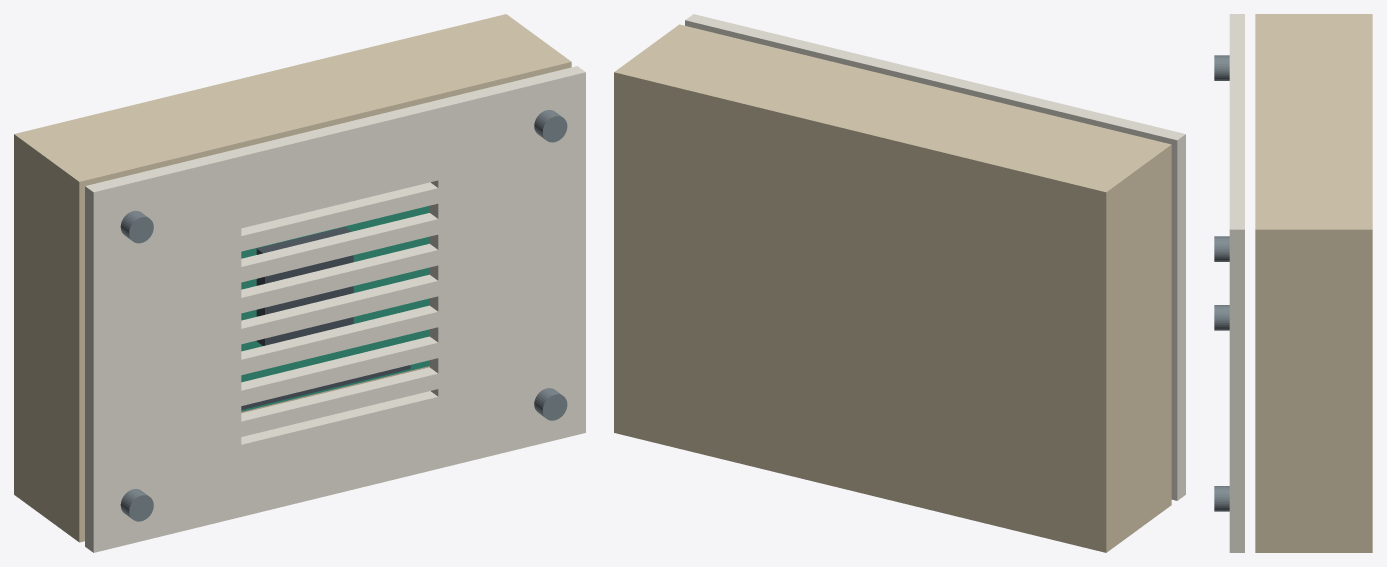
File: synthetic-enclosure.glb
3 renders of one model, left to right at view 1: azimuth 30°, elevation 25°; view 2: azimuth 150°, elevation 25°; view 3: azimuth 270°, elevation 25°, orthographic. The views are drawn at different scales.
Parts seen in each view (by area): view 1: Vented cover, Base enclosure, Controller board, Processor and headers, Cover fasteners; view 2: Base enclosure, Vented cover; view 3: Base enclosure, Vented cover, Cover fasteners.
Boxes of the visible parts, x1=… form: Vented cover: x1=85, y1=66, x2=585, y2=552; Base enclosure: x1=14, y1=14, x2=571, y2=542; Controller board: x1=241, y1=205, x2=429, y2=411; Processor and headers: x1=241, y1=227, x2=410, y2=409; Cover fasteners: x1=120, y1=110, x2=567, y2=521; Base enclosure: x1=614, y1=24, x2=1171, y2=552; Vented cover: x1=685, y1=14, x2=1185, y2=500; Base enclosure: x1=1255, y1=14, x2=1372, y2=552; Vented cover: x1=1229, y1=14, x2=1244, y2=552; Cover fasteners: x1=1214, y1=55, x2=1229, y2=511.
Size of the model in its own units: 0.1 by 0.07 by 0.031.
